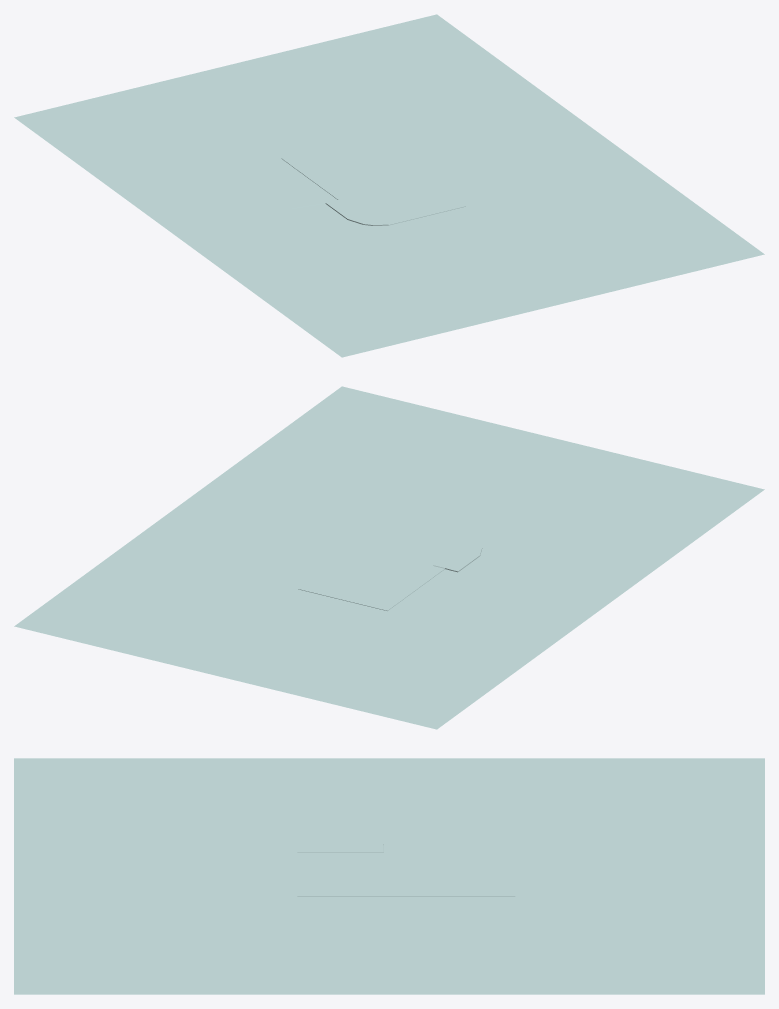
The model's file is KFCBulding_NavMesh.fbx.
The picture shows the model from 3 angles, top to bottom: view 1: azimuth 30°, elevation 25°; view 2: azimuth 150°, elevation 25°; view 3: azimuth 270°, elevation 25°; orthographic projection. The views are drawn at different scales.
Visible parts, largest first — view 1: Floor; view 2: Floor; view 3: Floor.
Boxes of the visible parts, left/top/right/bottom form: Floor: left=14, top=14, right=764, bottom=357; Floor: left=14, top=386, right=764, bottom=729; Floor: left=14, top=758, right=764, bottom=994.
Bounding box in the file's own units: 10784 × 24.14 × 14484.
